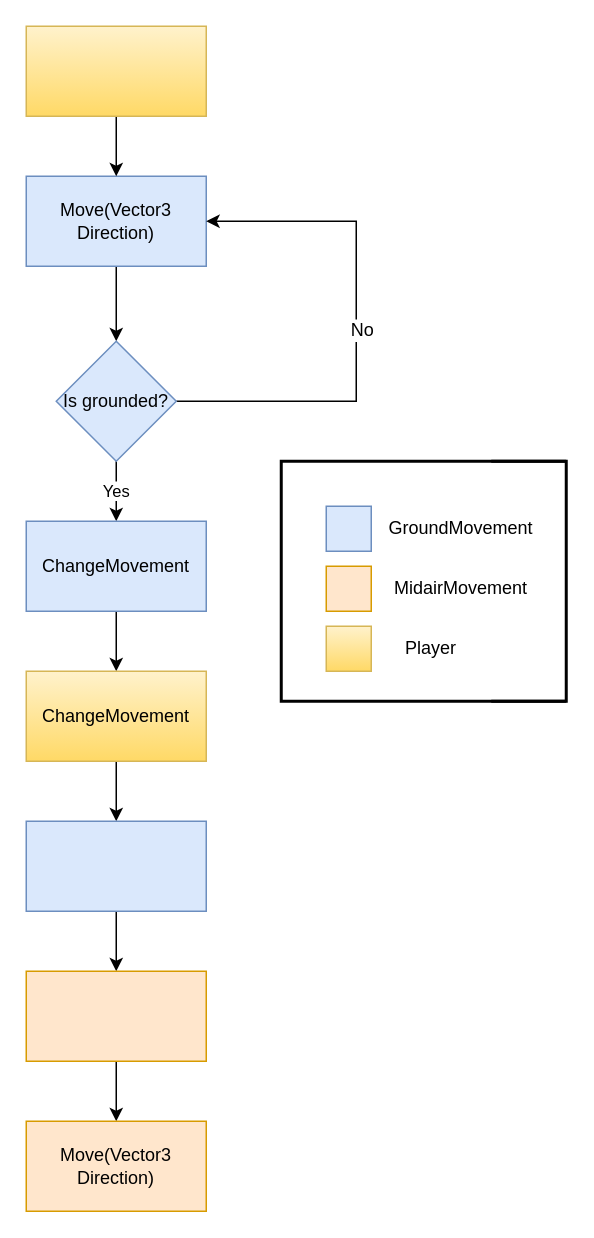
Image size: 594x1238. Some labels were removed from this diagram. The shapes that lost their labels are listed below. From the top down, each one's box as (x1, y1, x2, y2) in pixels, then its label:
(25, 25, 206, 116): FixedUpdate
(25, 820, 206, 911): Clean up
(25, 970, 206, 1061): Set up
